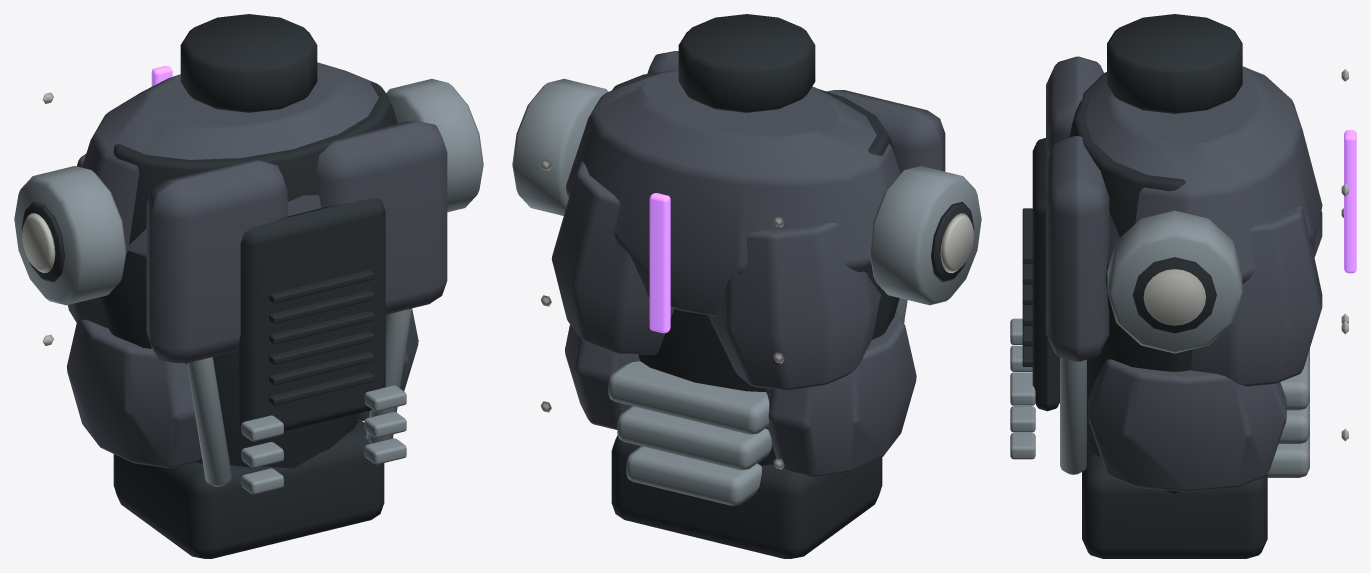
The model's file is torsos_04.glb.
3 renders of one model, left to right at view 1: azimuth 30°, elevation 25°; view 2: azimuth 150°, elevation 25°; view 3: azimuth 270°, elevation 25°, orthographic.
Parts seen in each view (by area): view 1: torsos_04_Geometry; view 2: torsos_04_Geometry; view 3: torsos_04_Geometry.
Part boxes in pixels (box(x1,y1,x2,y2)): torsos_04_Geometry: box(14, 14, 483, 558); torsos_04_Geometry: box(512, 14, 981, 558); torsos_04_Geometry: box(1010, 14, 1356, 558).
Bounding box in the file's own units: 0.592 × 0.625 × 0.4105.
